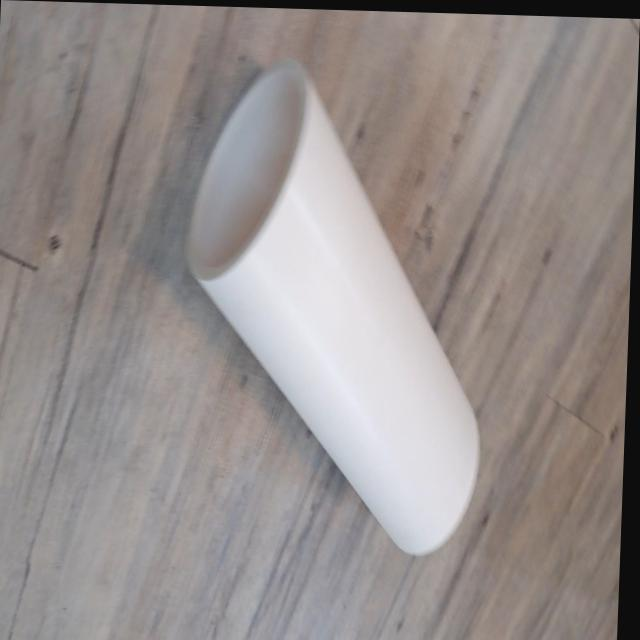CORAL: (169, 57, 500, 571)
